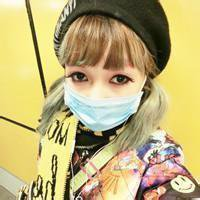face_mask: (63, 36, 143, 131)
